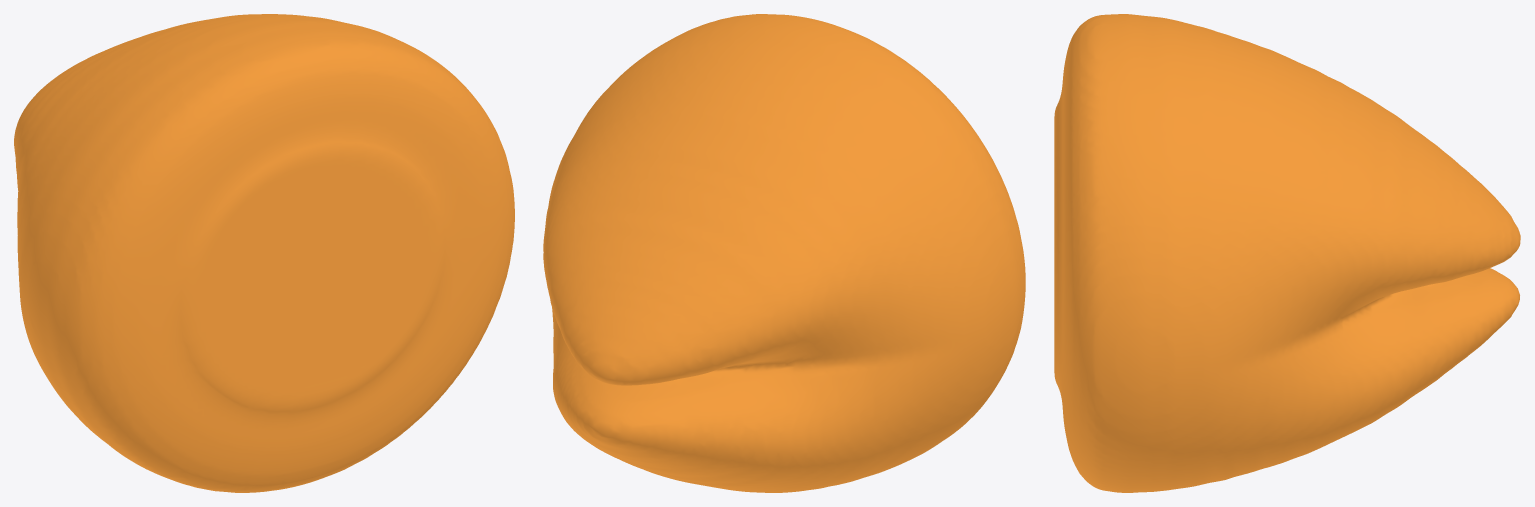
The model's file is atlas-derived-reference.glb.
3 views of the same model, side by side, from view 1: azimuth 30°, elevation 25°; view 2: azimuth 150°, elevation 25°; view 3: azimuth 270°, elevation 25° (orthographic). The views are drawn at different scales.
Size of the model in its own units: 1.08 by 1 by 0.9858.
Materials: 1 (1 with a texture image).
